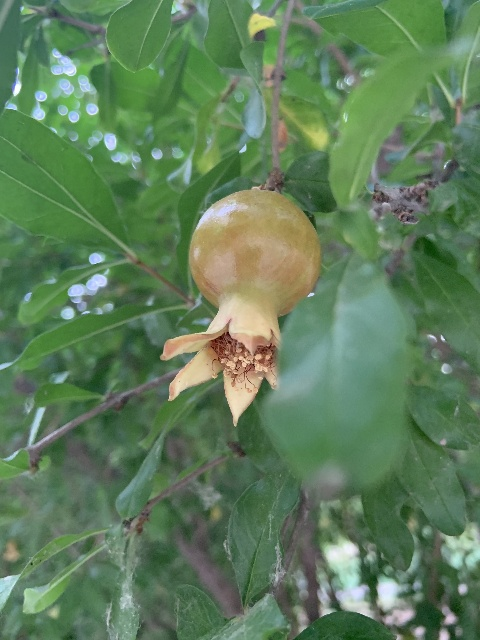early-fruit: (160, 189, 321, 428)
